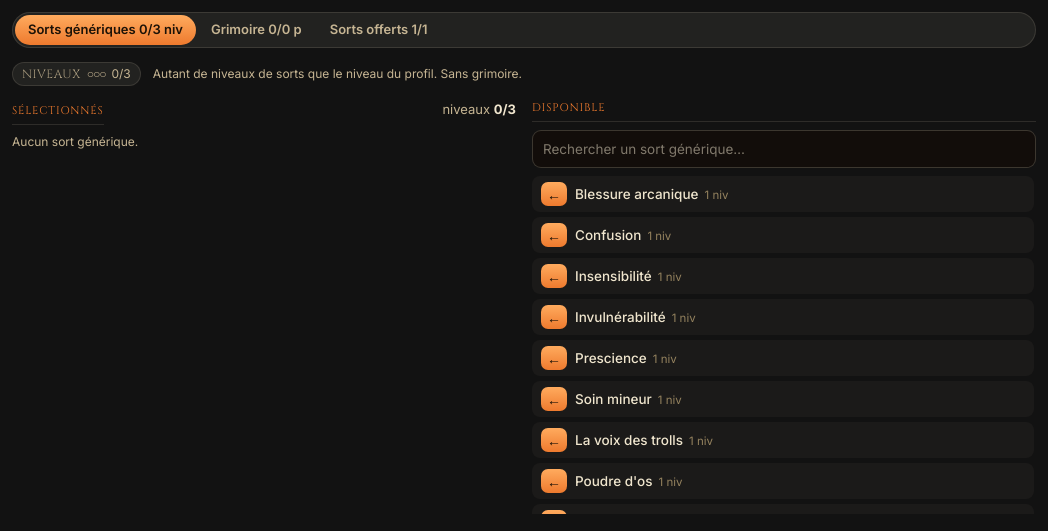
Test: MagiePanel - sorts offerts › l'offre servie bloque les ajouts suivants
The image size is (1048, 531).
Click the radio button "Sorts offerts 1/1" at (379, 30), box [317,15,440,44]
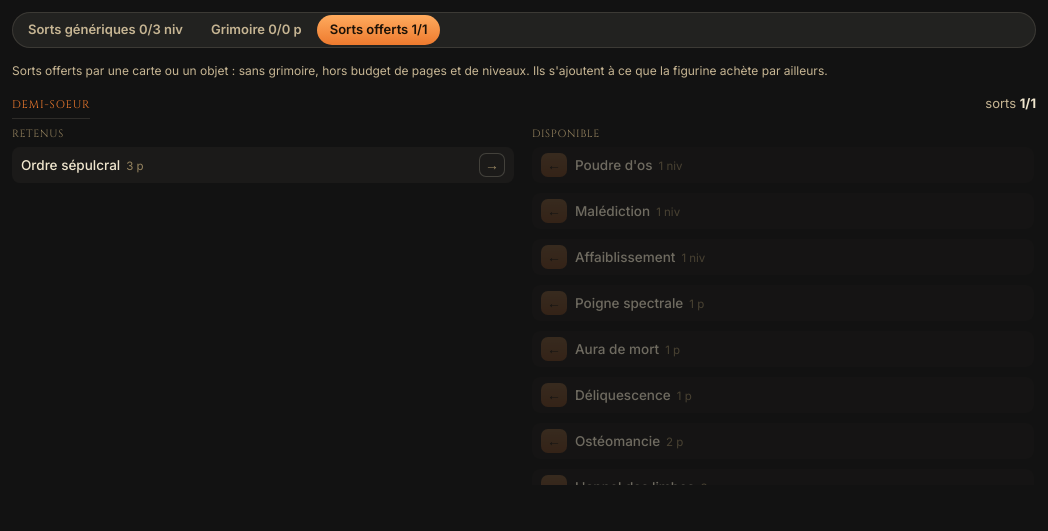
expect the element titled "Déjà 1 sort choisi" is shown: met, box [532,147,1034,183]
